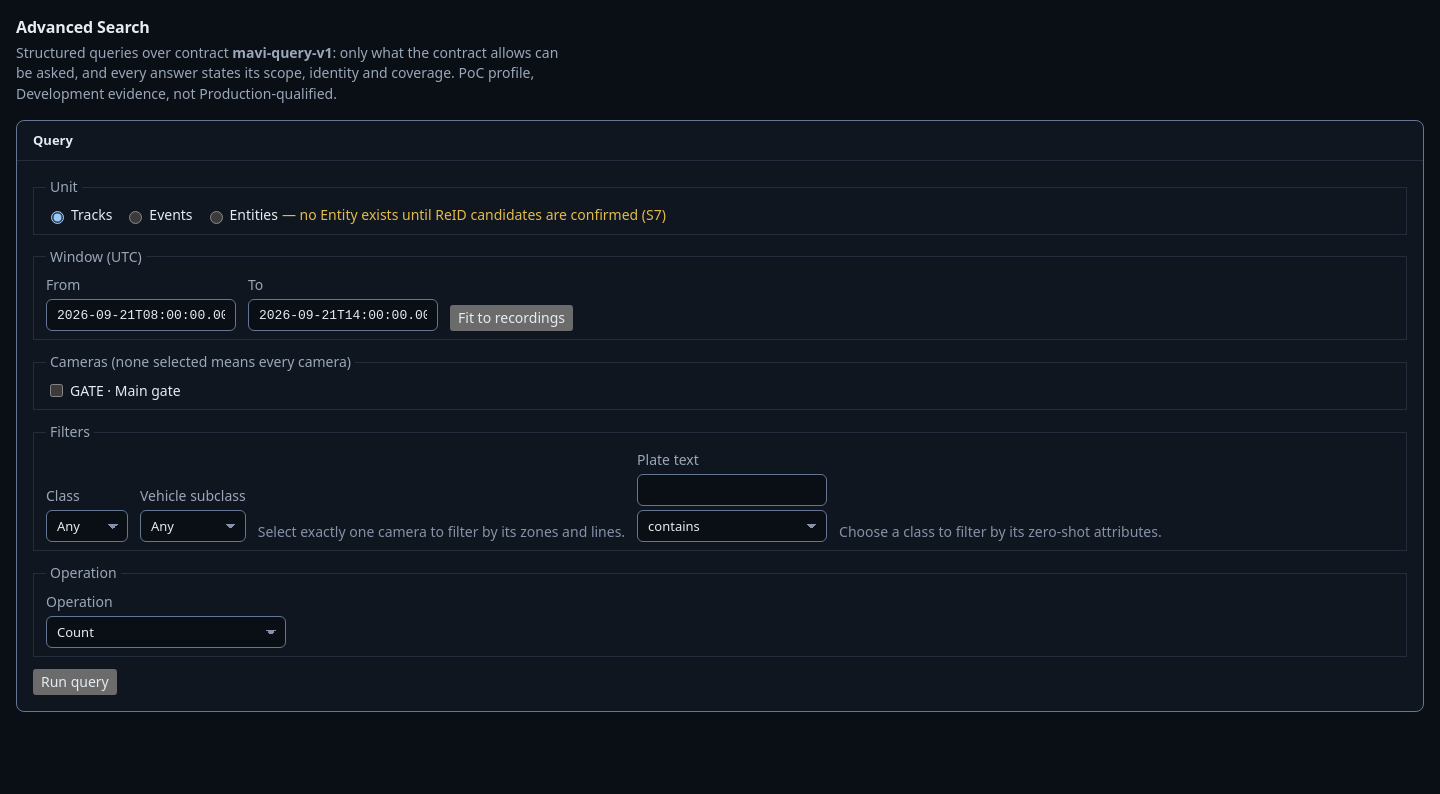
Advanced Search › withholds a figure when coverage is incomplete, and says what is missing
Expected: the field named "From (UTC)" is not empty, [46,299,236,331]
Click the button "Run query": (75, 682) [33,669,117,695]
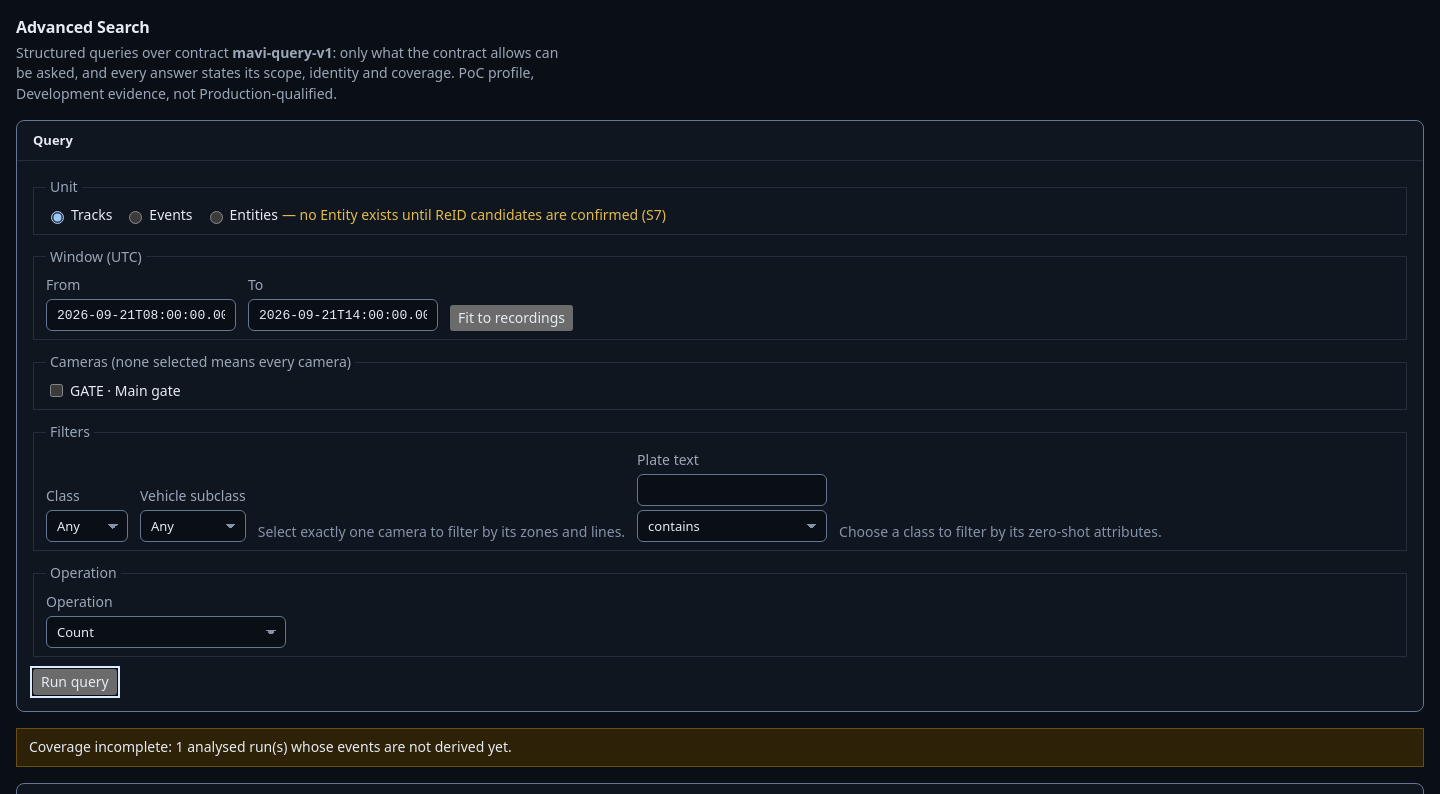
Expected: the text "Coverage incomplete: 1 analysed run(s) whose events are not derived yet." is shown, [16,728,1424,767]
